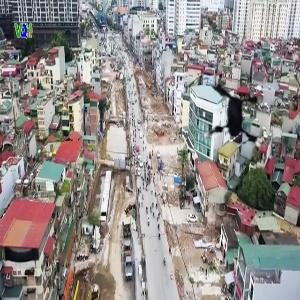drone: (175, 67, 281, 173)
